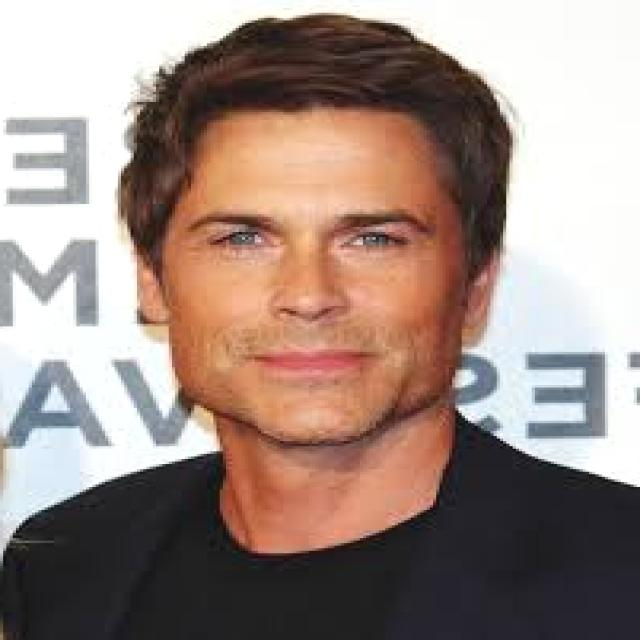normal_face: (143, 78, 478, 440)
